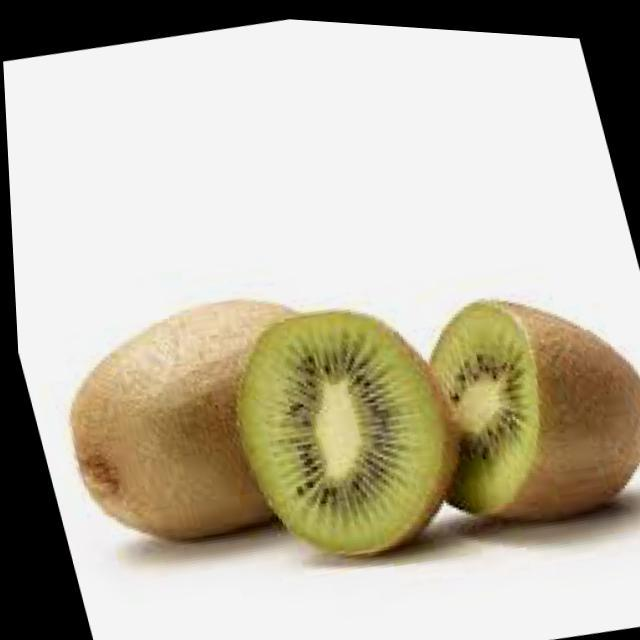kiwi: (36, 267, 383, 566)
